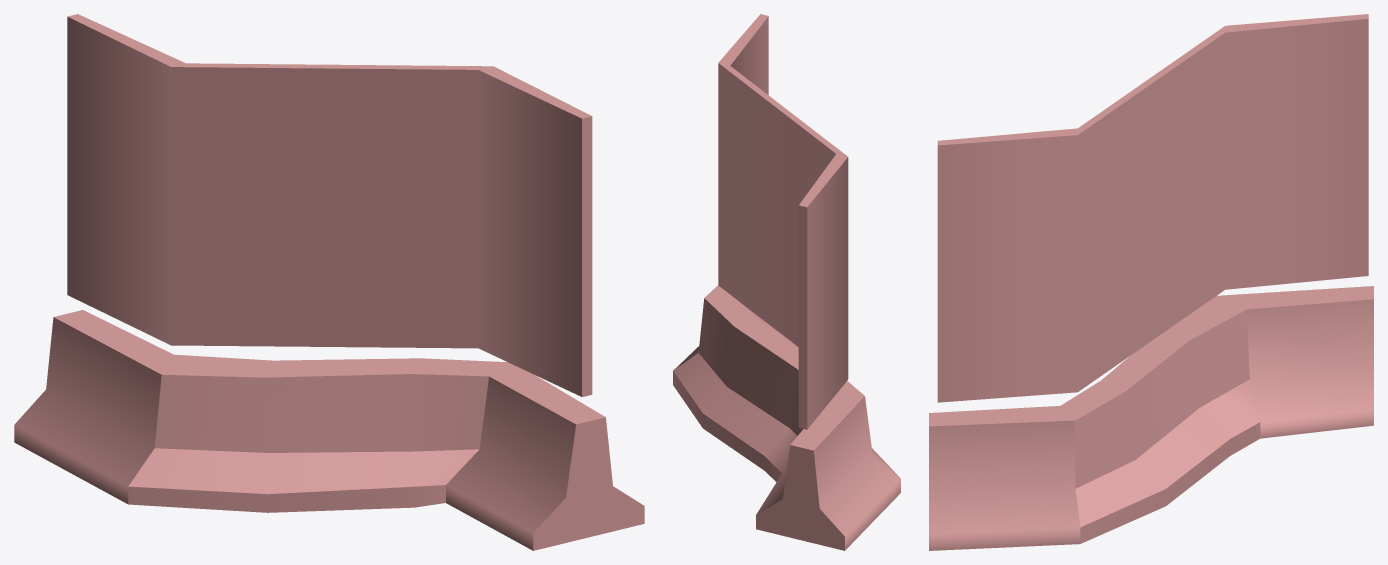
Rendered from Fence_A_F_COL.fbx.
3 views of the same model, side by side, from view 1: azimuth 30°, elevation 25°; view 2: azimuth 150°, elevation 25°; view 3: azimuth 270°, elevation 25° (orthographic). The views are drawn at different scales.
Visible parts, largest first — view 1: Fence_A_F_COL; view 2: Fence_A_F_COL; view 3: Fence_A_F_COL.
Boxes of the visible parts, x1,y1,x2,y2 form: Fence_A_F_COL: (14, 14, 644, 550); Fence_A_F_COL: (673, 14, 900, 550); Fence_A_F_COL: (929, 14, 1373, 550).
Size of the model in its own units: 280 by 286 by 300.
